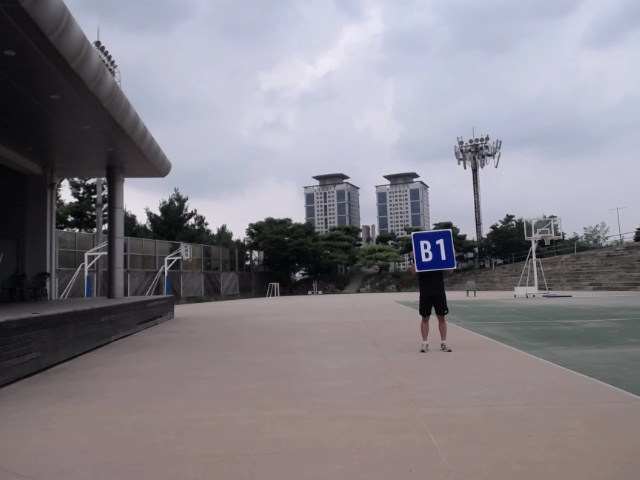delivery_b1: (412, 230, 456, 271)
